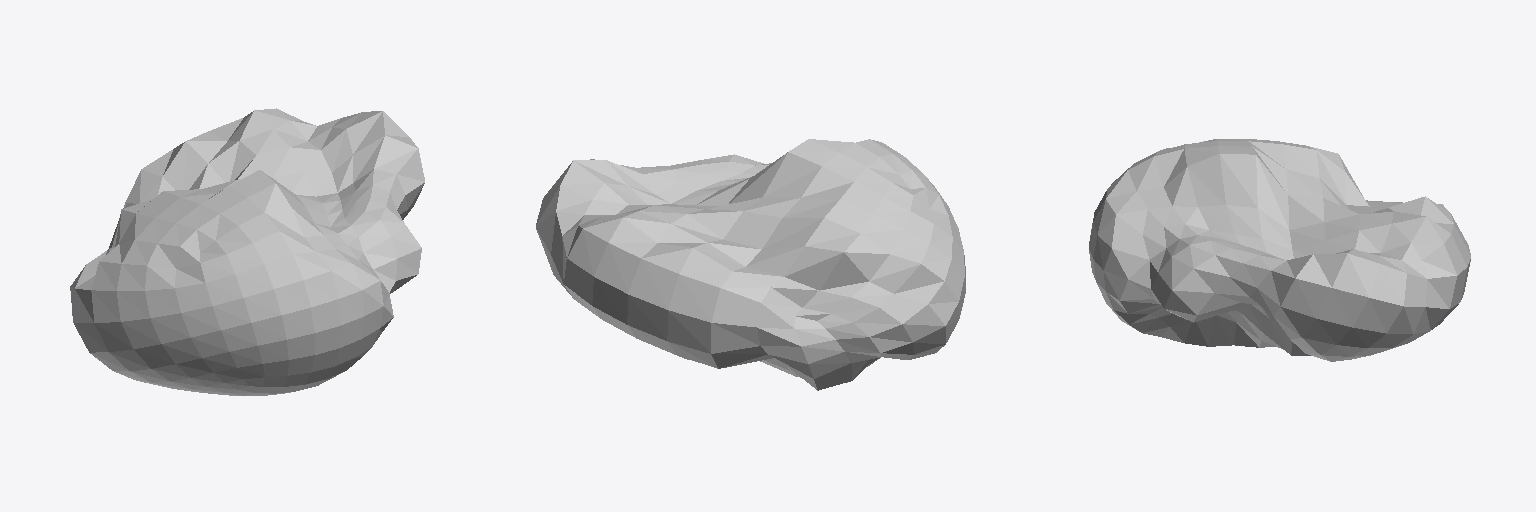
File: rock2.obj
The picture shows the model from 3 angles: view 1: azimuth 30°, elevation 25°; view 2: azimuth 150°, elevation 25°; view 3: azimuth 270°, elevation 25°; orthographic projection.
Parts seen in each view (by area): view 1: Cube; view 2: Cube; view 3: Cube.
Boxes of the visible parts, box(x1,y1,x2,y2) form: Cube: box(70, 108, 424, 395); Cube: box(536, 139, 965, 390); Cube: box(1089, 139, 1470, 361).
Bounding box in the file's own units: 4.57 × 2.36 × 4.2.